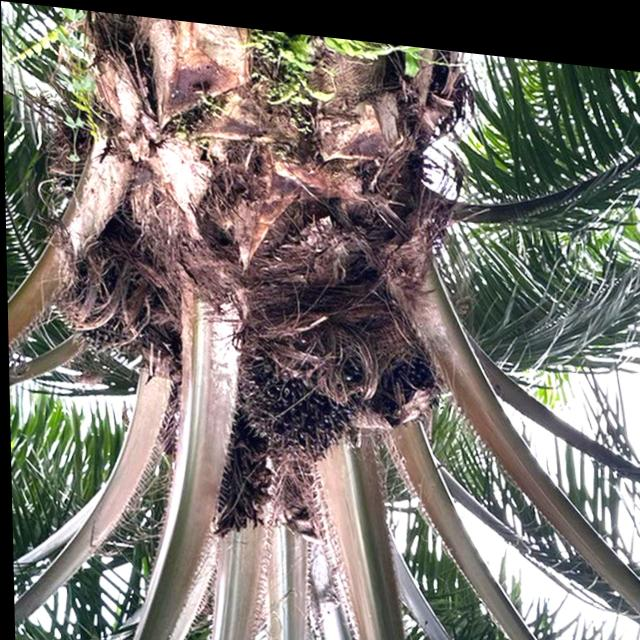unripe: (234, 316, 364, 460), (46, 229, 157, 353), (373, 325, 454, 425)
